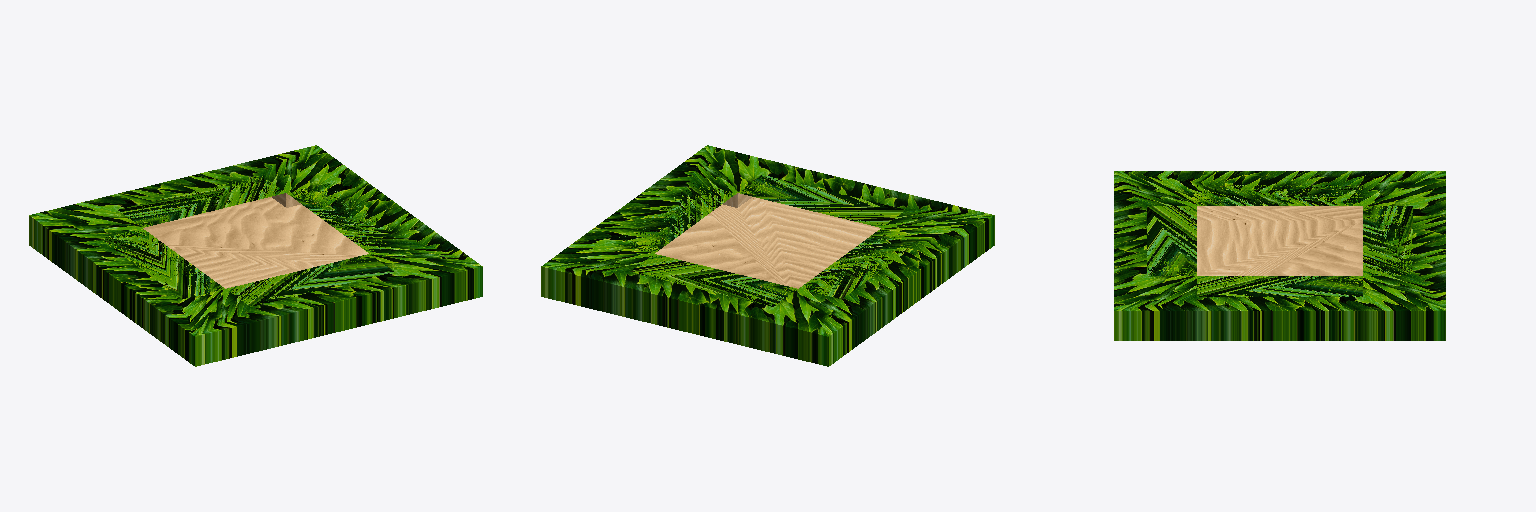
3 renders of one model, left to right at view 1: azimuth 30°, elevation 25°; view 2: azimuth 150°, elevation 25°; view 3: azimuth 270°, elevation 25°, orthographic.
Parts seen in each view (by area): view 1: Cube; view 2: Cube; view 3: Cube.
Part boxes in pixels (bbox=[...]): Cube: bbox=[29, 145, 482, 366]; Cube: bbox=[541, 145, 994, 366]; Cube: bbox=[1114, 171, 1445, 340].
Bounding box in the file's own units: 20 × 2 × 20.
Materials: 1 (1 with a texture image).